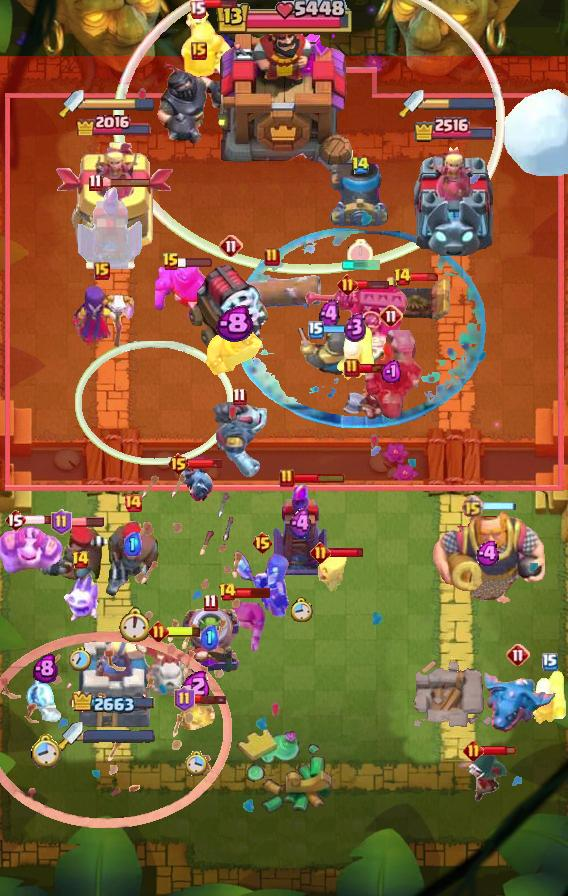bandit: (458, 751, 510, 803)
bar: (293, 472, 346, 484), (100, 177, 152, 188), (235, 586, 272, 599), (166, 625, 202, 638), (24, 514, 61, 526), (192, 693, 228, 705), (69, 516, 105, 528), (187, 458, 223, 470), (358, 362, 394, 374), (177, 256, 213, 268), (481, 744, 516, 756), (328, 547, 365, 558), (482, 501, 517, 512), (355, 279, 390, 290), (322, 324, 356, 335), (203, 0, 238, 10), (409, 272, 441, 282)
bar-level: (506, 643, 530, 667), (379, 304, 403, 328), (219, 234, 243, 258), (251, 531, 274, 555), (167, 452, 190, 476), (174, 686, 195, 712), (51, 509, 72, 535), (461, 495, 484, 518), (4, 508, 26, 532), (463, 740, 484, 761), (148, 621, 169, 642), (310, 542, 331, 563), (337, 274, 358, 295), (123, 493, 143, 513), (218, 582, 237, 602), (71, 550, 90, 570), (393, 267, 412, 287), (351, 156, 370, 175), (162, 252, 180, 272), (189, 0, 206, 19), (279, 468, 295, 488), (344, 358, 360, 378), (264, 247, 280, 267), (542, 653, 558, 671), (308, 321, 324, 339), (94, 262, 110, 280), (191, 42, 207, 60), (203, 593, 218, 612), (232, 387, 247, 406), (88, 173, 103, 192)
clock: (29, 732, 61, 769), (118, 607, 149, 642), (347, 239, 373, 269), (185, 751, 208, 777), (290, 597, 313, 622), (69, 647, 91, 671)
dagger-duchess-tower: (55, 142, 174, 256), (409, 142, 497, 256), (75, 623, 153, 731)
dagger-duchess-tower-bar: (83, 729, 155, 743), (424, 97, 496, 111), (84, 97, 156, 111)
electro-dragon: (479, 669, 557, 733)
elite-barbarian: (205, 317, 263, 377)
elixir: (215, 305, 253, 343), (181, 669, 212, 703), (287, 508, 316, 539), (33, 653, 58, 683), (344, 312, 367, 342), (476, 541, 502, 566), (319, 299, 340, 329), (381, 359, 401, 383), (201, 625, 219, 649), (124, 532, 142, 556)
elixir-golem-mid: (155, 261, 217, 321)
firecracker: (526, 668, 568, 726), (334, 324, 376, 382)
heal-spirit: (316, 550, 348, 594)
hunter: (105, 517, 161, 599), (36, 523, 112, 583)
ice-spirit: (24, 672, 66, 724)
ice-spirit-evolution: (60, 573, 100, 623)
king-tower: (211, 7, 357, 181)
king-tower-bar: (213, 0, 355, 38)
knight: (298, 328, 361, 376)
lava-pup: (175, 698, 217, 734)
mega-minion: (211, 398, 267, 478), (0, 522, 66, 576)
minion: (177, 463, 215, 503)
mortar: (330, 163, 390, 227)
mortar-evolution: (178, 605, 242, 675)
night-witch: (231, 549, 293, 621)
royal-recruit: (179, 3, 235, 83)
tesla: (382, 275, 454, 323)
the-log: (221, 270, 323, 314)
tower-bar: (412, 115, 495, 143), (72, 691, 157, 716), (75, 112, 153, 136)
valkyrie: (342, 372, 392, 422)
witch: (70, 283, 134, 353)
wizard: (216, 595, 266, 651)
